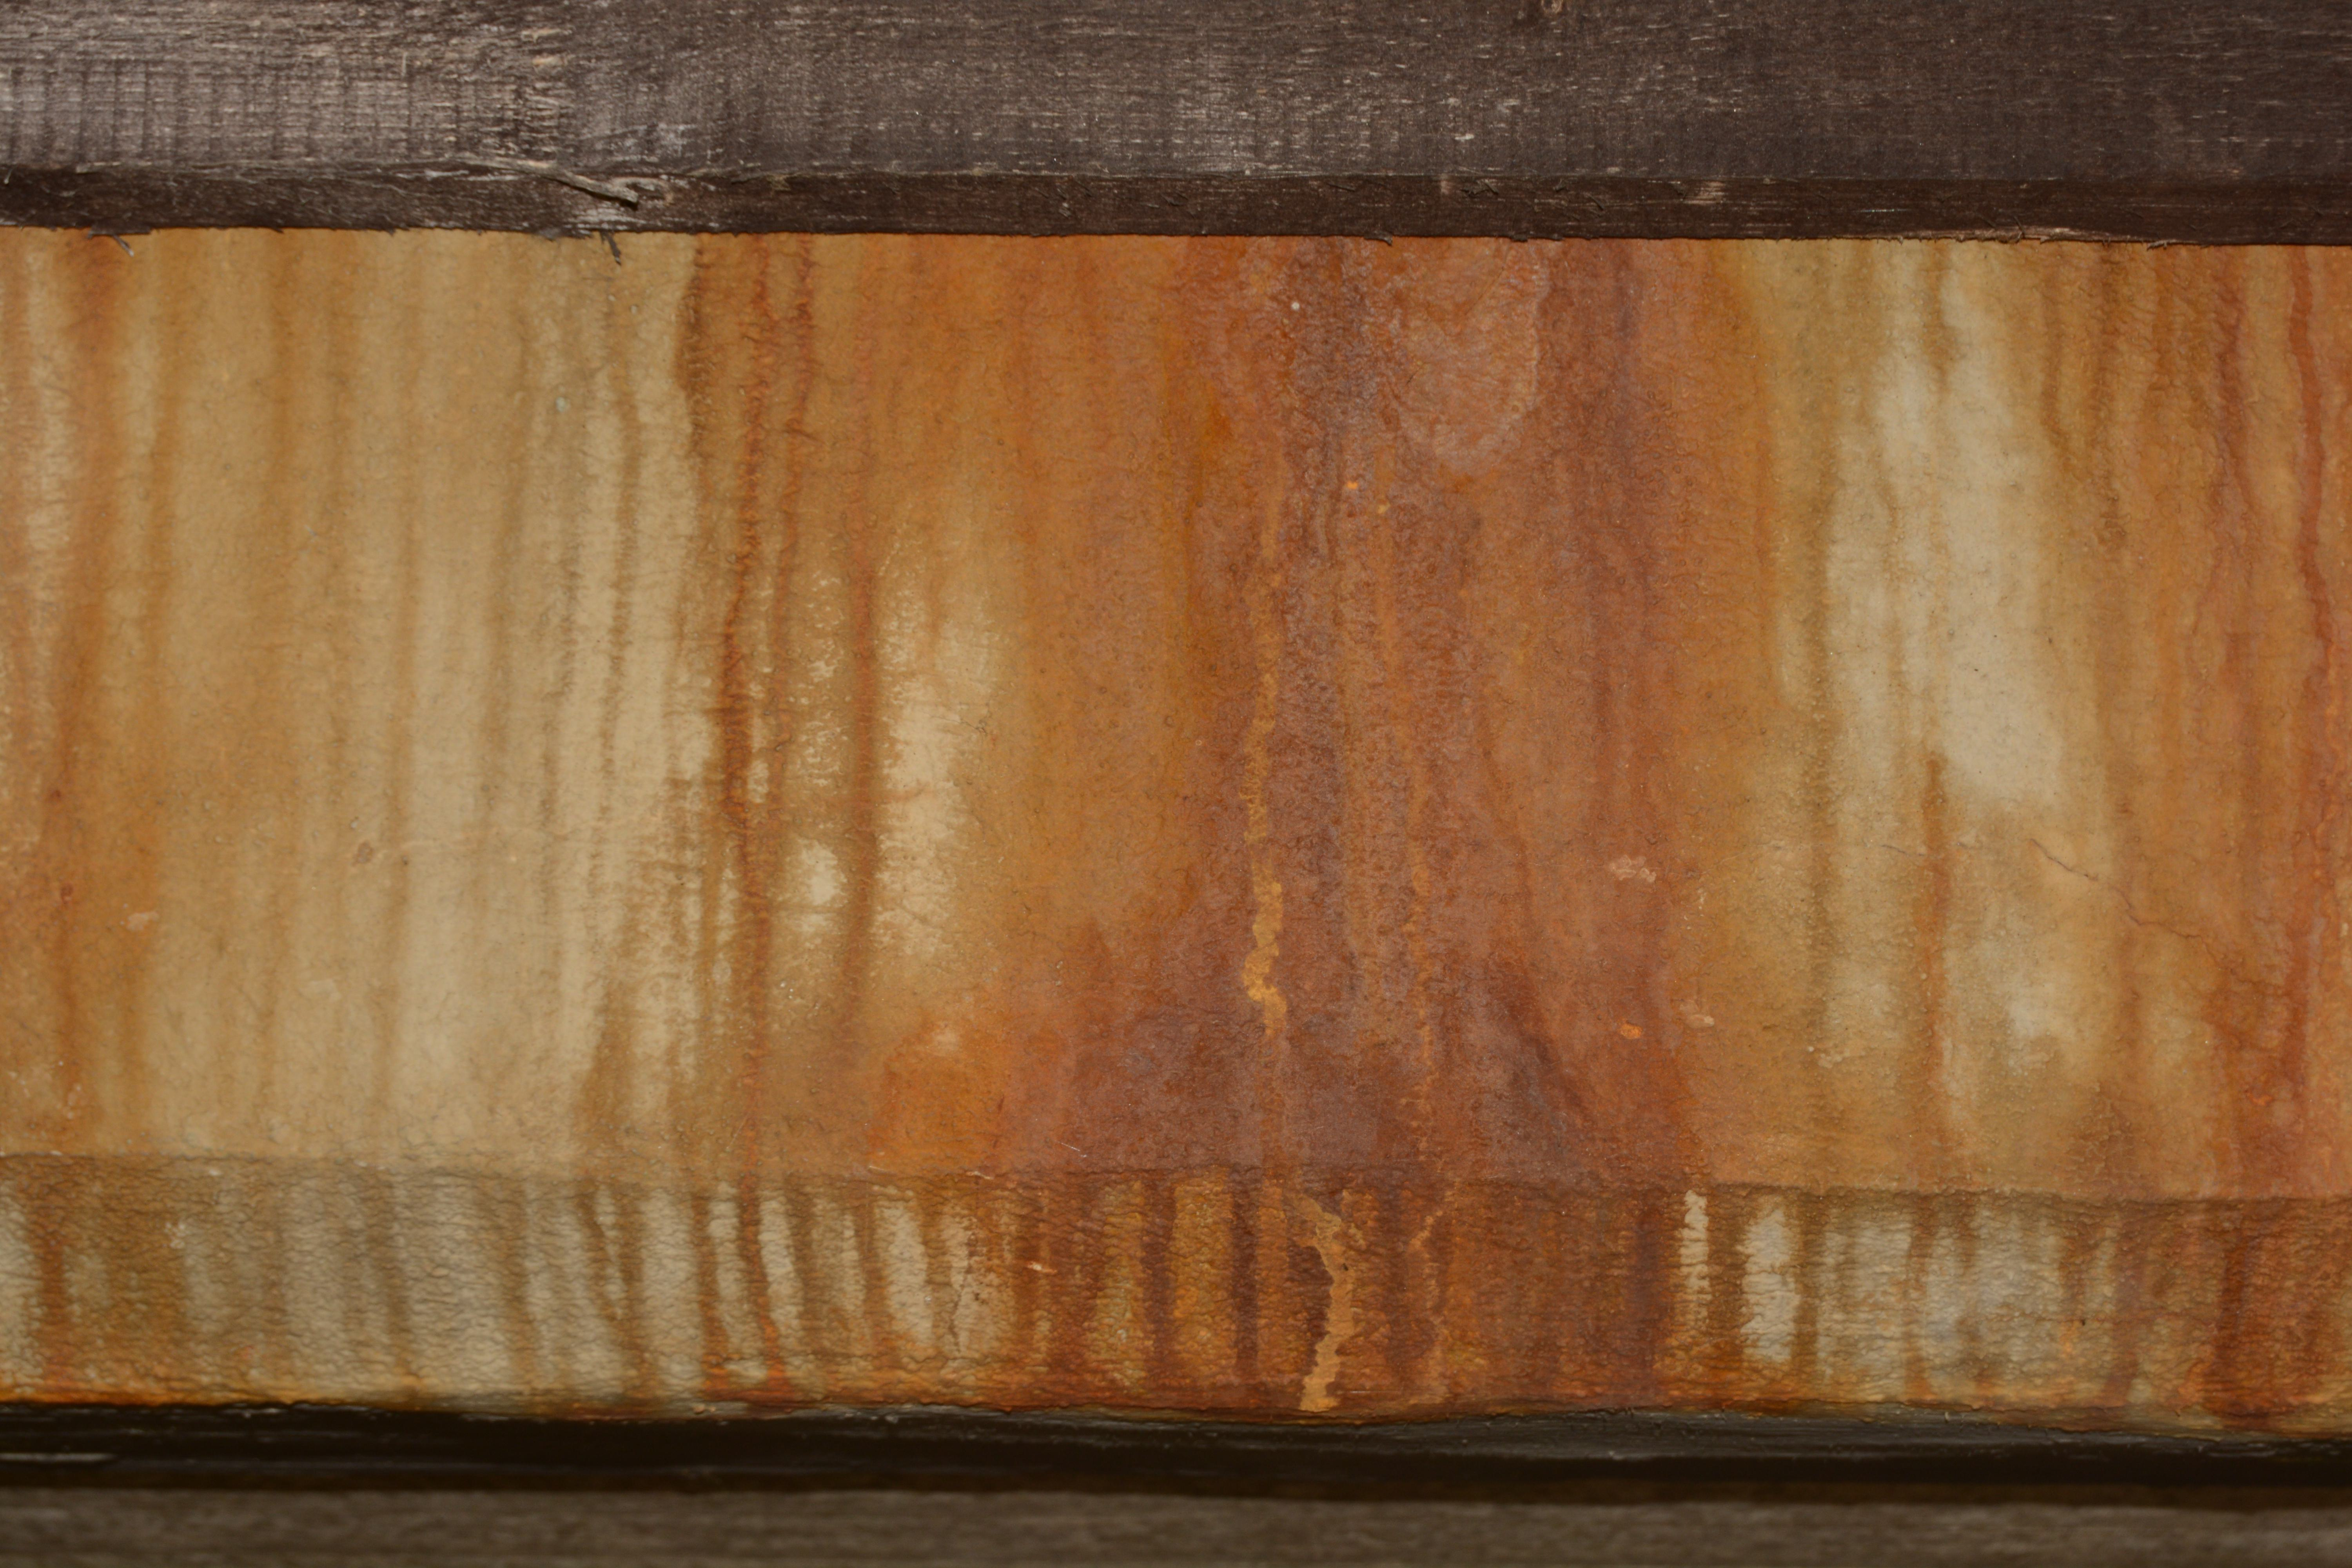Corrosion: (0, 226, 2352, 1437)
